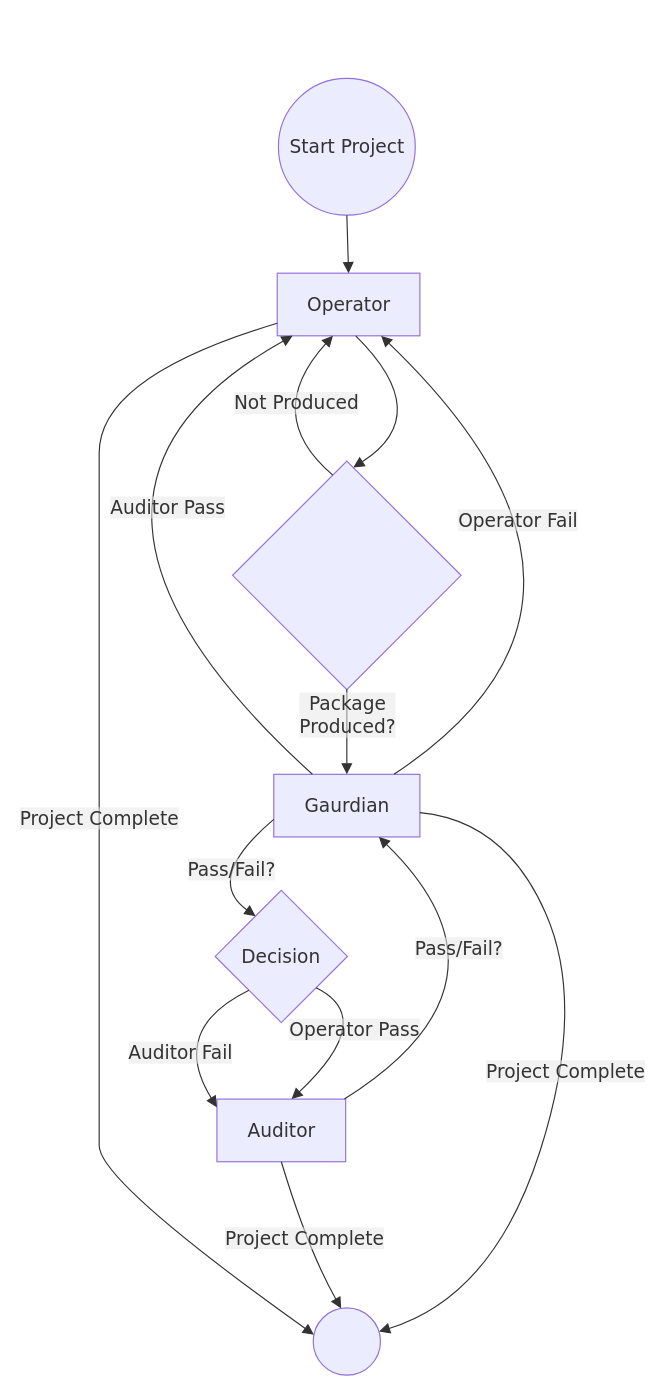
This 666x1395 diagram has some shape labels left out. Here are the shapes that lost their labels. From the top down, the centre of each, then its label:
At point 346,575: "User Interaction".
At point 346,1341: "End".
